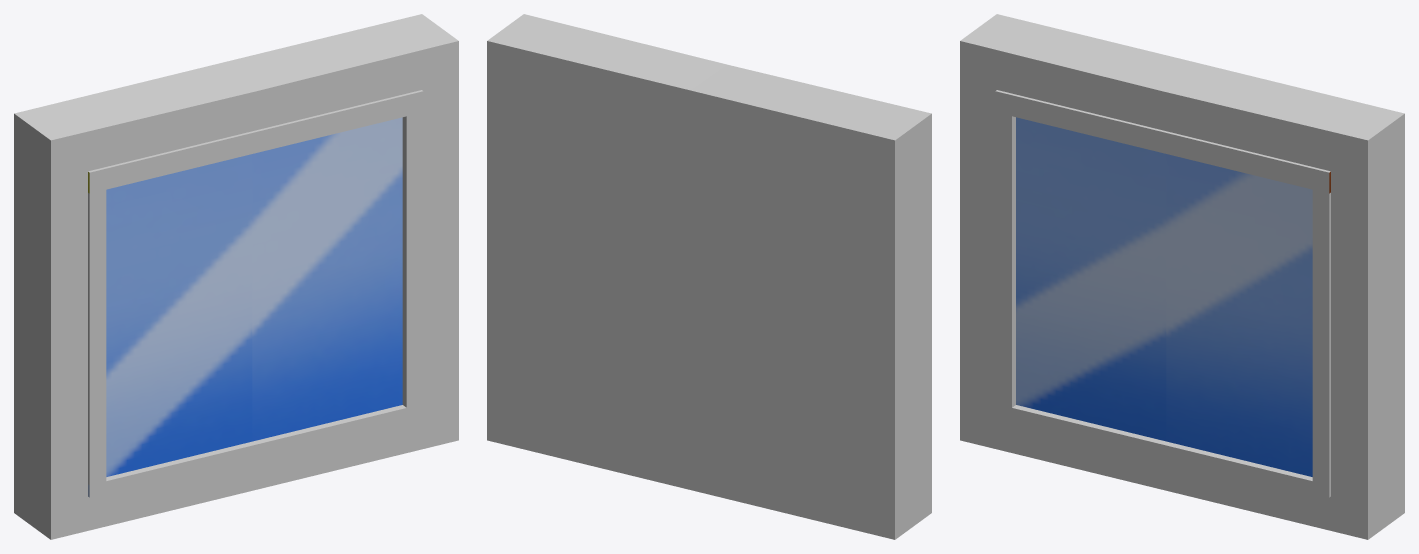
The model's file is window_06.fbx.
3 renders of one model, left to right at view 1: azimuth 30°, elevation 25°; view 2: azimuth 150°, elevation 25°; view 3: azimuth 330°, elevation 25°, orthographic.
Parts seen in each view (by area): view 1: polySurface177, polySurface176; view 2: polySurface176; view 3: polySurface177, polySurface176.
Boxes of the visible parts, x1=… form: polySurface177: x1=88, y1=90, x2=423, y2=497; polySurface176: x1=14, y1=14, x2=458, y2=539; polySurface176: x1=487, y1=14, x2=931, y2=539; polySurface177: x1=995, y1=90, x2=1330, y2=497; polySurface176: x1=960, y1=14, x2=1404, y2=539.
Bounding box in the file's own units: 96.24 × 90.08 × 15.73.
